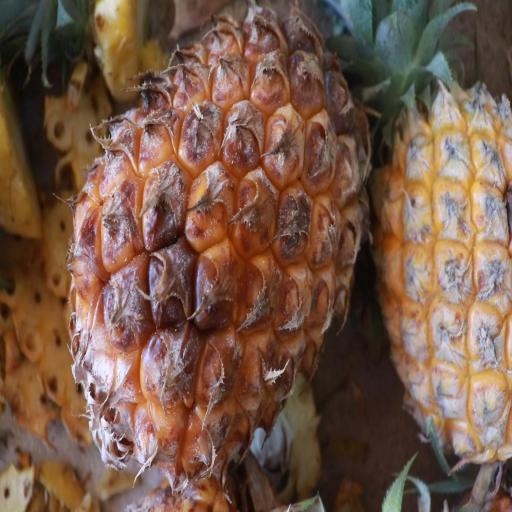Pineapple - v8 v1: (66, 3, 377, 475), (367, 2, 512, 480)
